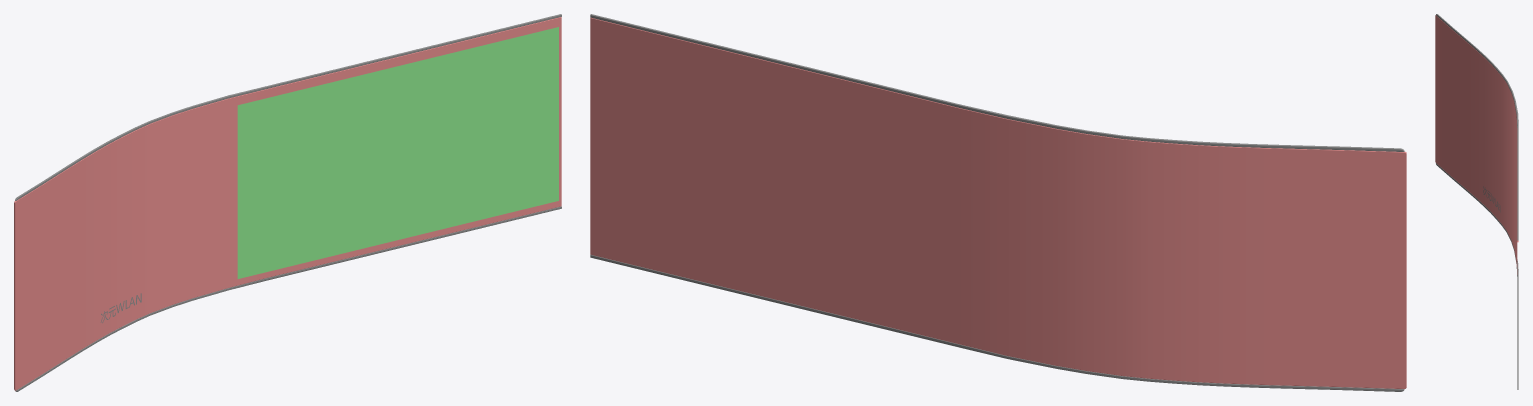
Rendered from S_Envi_Wlbl_Screen_01a.gltf.
3 views of the same model, side by side, from view 1: azimuth 30°, elevation 25°; view 2: azimuth 150°, elevation 25°; view 3: azimuth 270°, elevation 25° (orthographic). The views are drawn at different scales.
Parts seen in each view (by area): view 1: S_Envi_Wlbl_Screen_01a; view 2: S_Envi_Wlbl_Screen_01a; view 3: S_Envi_Wlbl_Screen_01a.
Part boxes in pixels (x1,y1,x2,y2): S_Envi_Wlbl_Screen_01a: [14, 14, 561, 391]; S_Envi_Wlbl_Screen_01a: [590, 14, 1406, 391]; S_Envi_Wlbl_Screen_01a: [1435, 14, 1518, 389].
Size of the model in its own units: 1.94 by 0.6004 by 0.3003.
